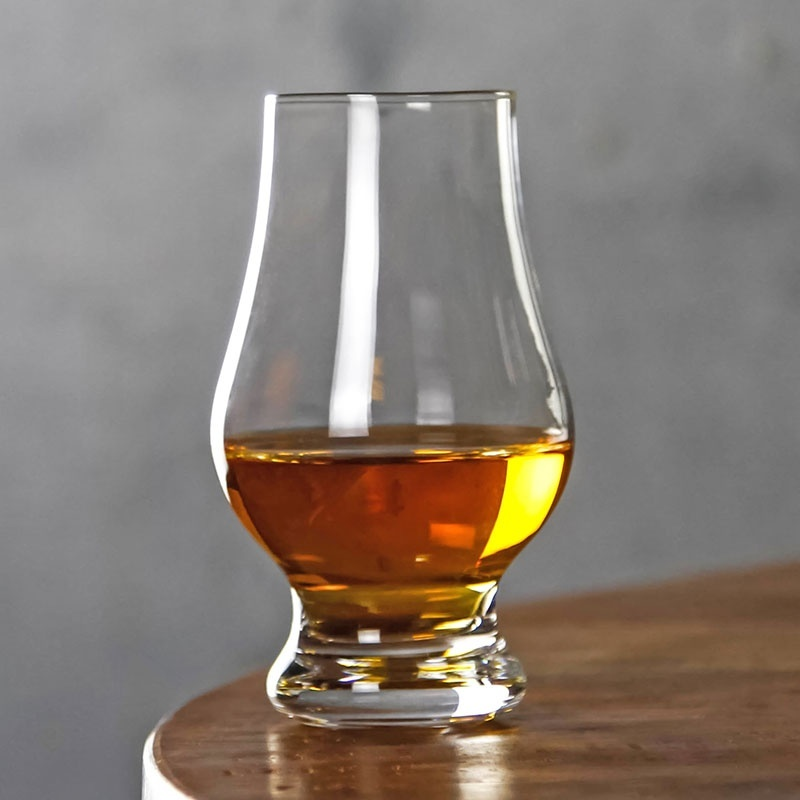whiskey: (231, 87, 555, 720)
